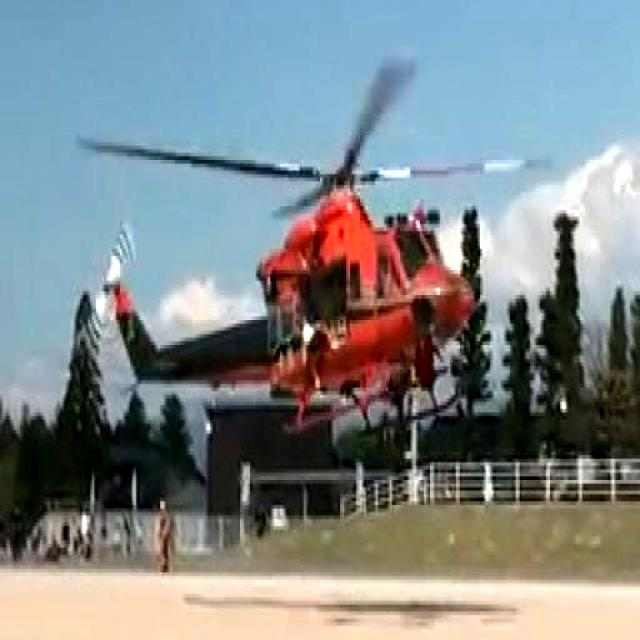drone: (79, 69, 522, 424)
